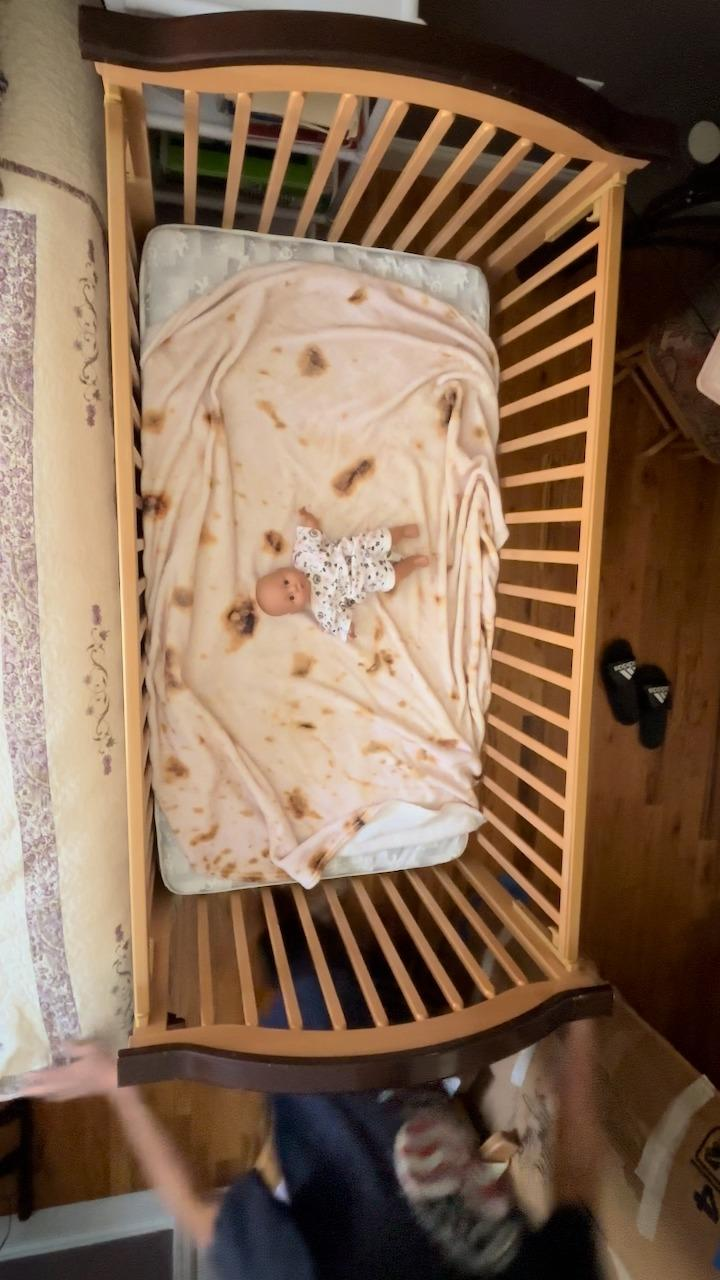baby: (251, 504, 438, 650)
